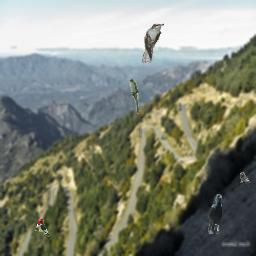Crow: (208, 194, 222, 234)
Cuckoo: (142, 23, 164, 63), (129, 79, 139, 114)
Sparrow: (240, 172, 250, 183)
Woodpecker: (35, 218, 50, 237)
